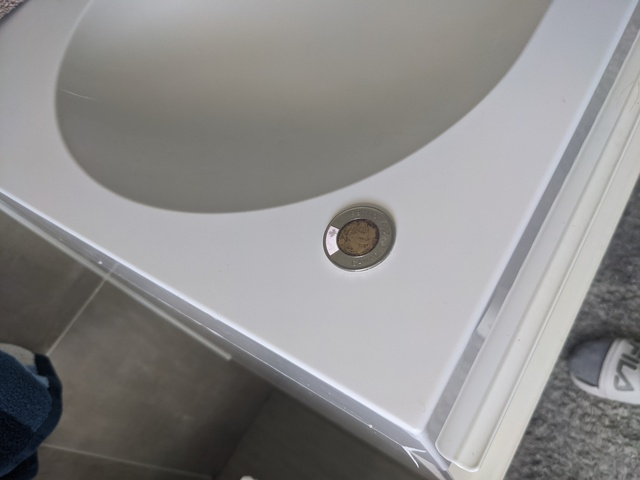twonie: (322, 201, 403, 268)
